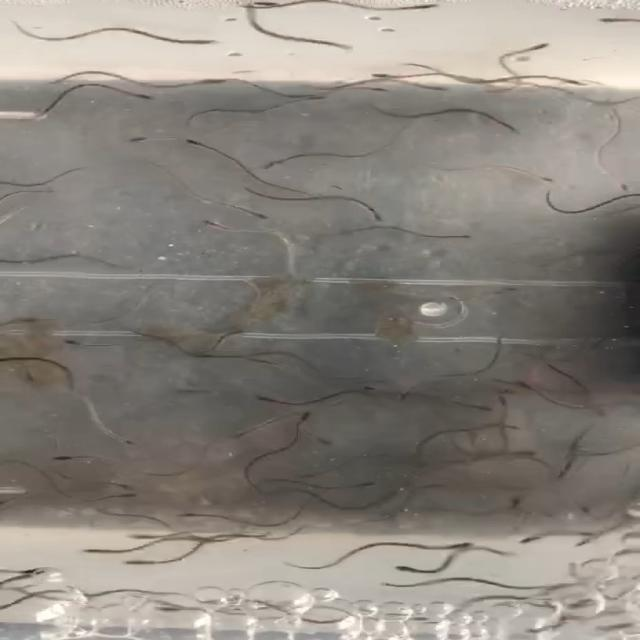active_glass_eel: (512, 530, 555, 549), (403, 0, 451, 16), (539, 70, 587, 86), (491, 117, 531, 135), (3, 564, 57, 576), (413, 77, 453, 93), (197, 216, 234, 233), (172, 37, 224, 49), (369, 65, 407, 81), (432, 539, 477, 552), (363, 200, 388, 223), (368, 577, 414, 589), (612, 170, 634, 195), (130, 130, 164, 146), (568, 532, 602, 548), (392, 384, 419, 404), (349, 82, 389, 95), (58, 336, 98, 349), (258, 155, 290, 171), (572, 502, 606, 517), (526, 169, 554, 187), (599, 15, 640, 27), (79, 545, 119, 557), (49, 452, 88, 464), (465, 401, 501, 414), (394, 563, 436, 574), (288, 96, 326, 108), (110, 480, 142, 494), (286, 89, 320, 102), (118, 556, 152, 569), (503, 495, 530, 511), (130, 91, 160, 105), (245, 209, 275, 223), (248, 392, 282, 404), (107, 431, 136, 445), (247, 0, 287, 10), (191, 75, 231, 85), (294, 472, 334, 482), (308, 434, 334, 448), (124, 532, 169, 540), (296, 409, 318, 425), (178, 510, 216, 519), (236, 428, 262, 441), (526, 40, 547, 56), (104, 491, 145, 499), (182, 136, 209, 148), (354, 480, 386, 490), (454, 232, 482, 243)
